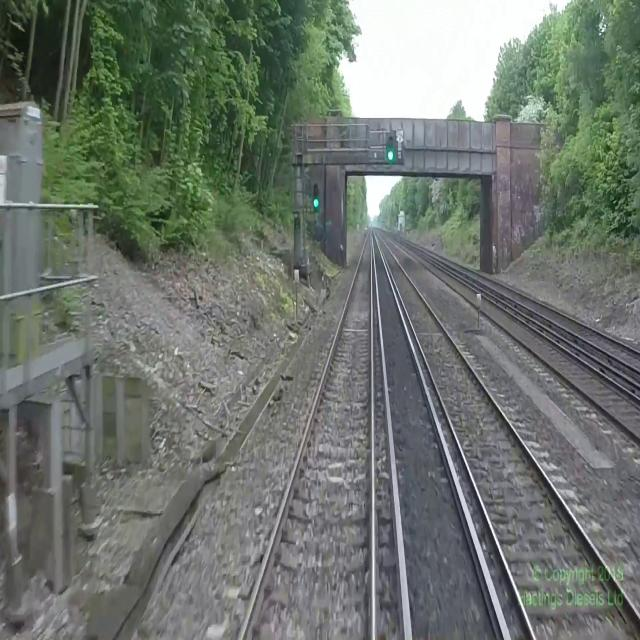rail-track: (254, 251, 370, 638)
